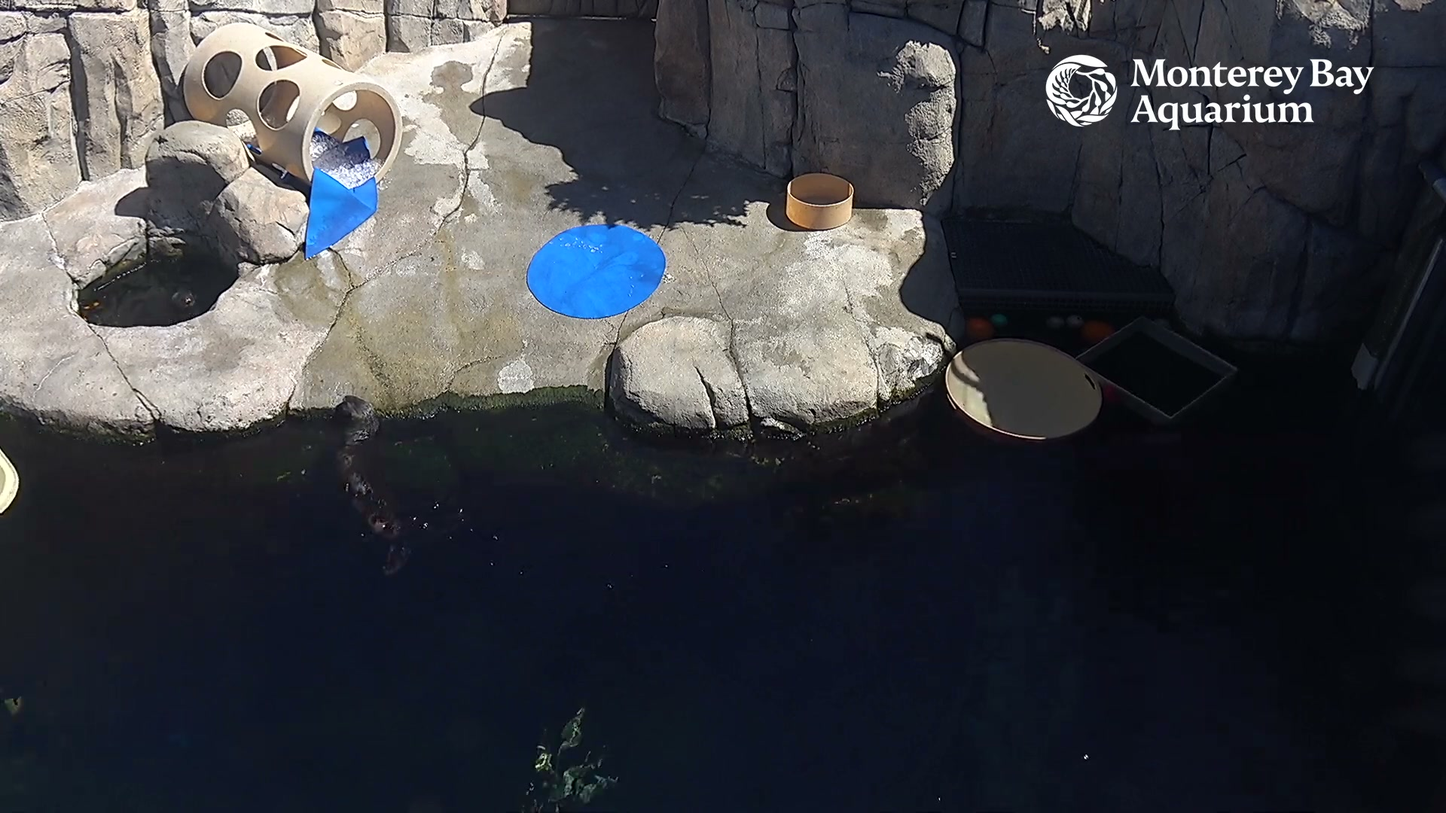Southern Sea Otter: (248, 375, 457, 571), (86, 261, 207, 343)
